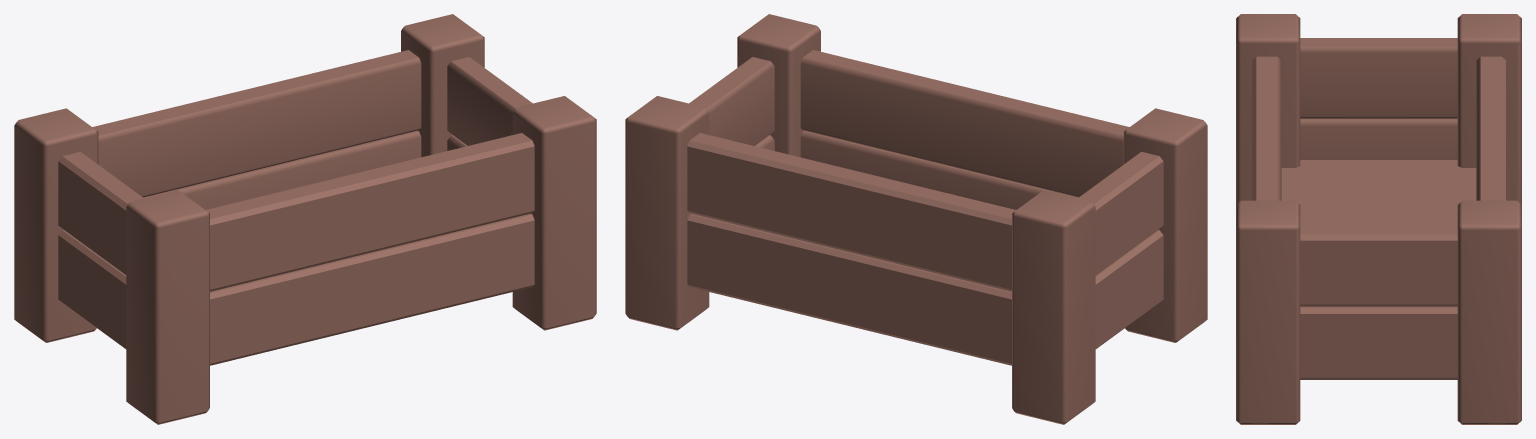
Rendered from Farm_15_Box_2.glb.
3 renders of one model, left to right at view 1: azimuth 30°, elevation 25°; view 2: azimuth 150°, elevation 25°; view 3: azimuth 270°, elevation 25°, orthographic.
Visible parts, largest first — view 1: Farm_15_Box_2; view 2: Farm_15_Box_2; view 3: Farm_15_Box_2.
Part boxes in pixels (<box>): Farm_15_Box_2: <box>14,14,596,424</box>; Farm_15_Box_2: <box>625,14,1207,424</box>; Farm_15_Box_2: <box>1236,14,1521,424</box>.
Size of the model in its own units: 1.08 by 0.4747 by 0.6116.
Materials: 1 (1 with a texture image).
